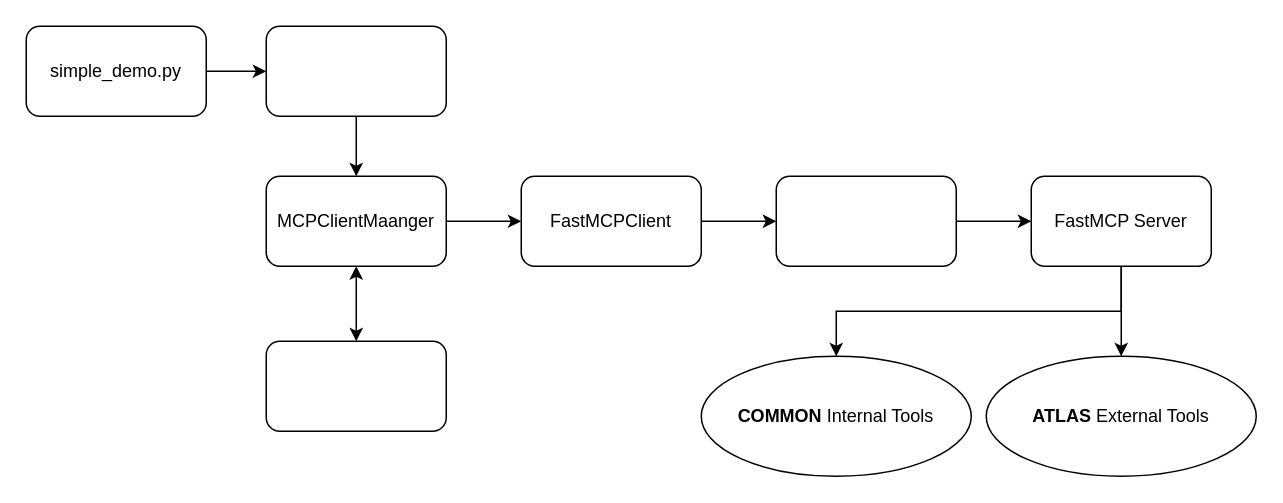
Image size: 1283x503. Some labels were removed from this diagram. Each missing label, with the centre of its shape:
HTTP: (x=865, y=220)
LangieSimpleAgent: (x=355, y=70)
State Model: (x=355, y=385)
